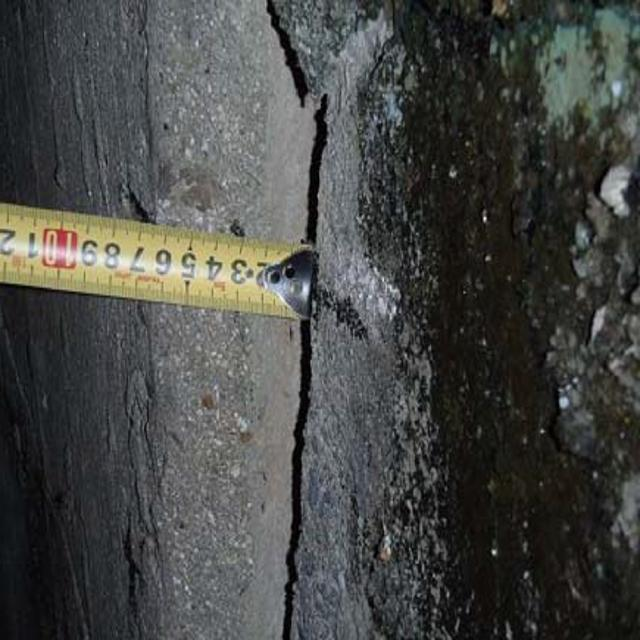crack: (259, 0, 334, 259), (280, 326, 333, 634)
